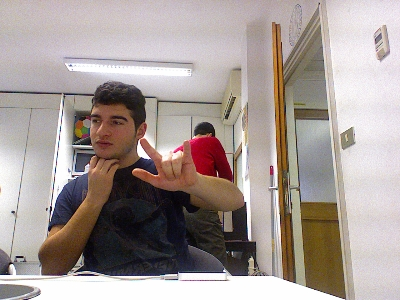我爱你: (130, 136, 198, 192)
